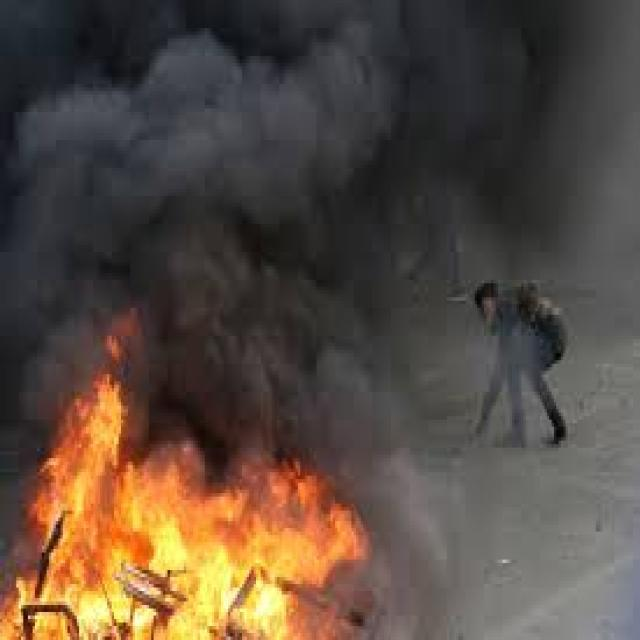Fire: (0, 458, 368, 640), (50, 374, 134, 462), (106, 311, 136, 373), (146, 433, 207, 462)
Smoke: (0, 0, 640, 308), (137, 307, 480, 427), (368, 350, 474, 638), (211, 426, 369, 459), (20, 314, 106, 372), (20, 334, 50, 426)
